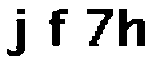7: (82, 6, 113, 50)
f: (45, 7, 71, 49)
h: (116, 5, 151, 50)
j: (4, 6, 33, 58)
